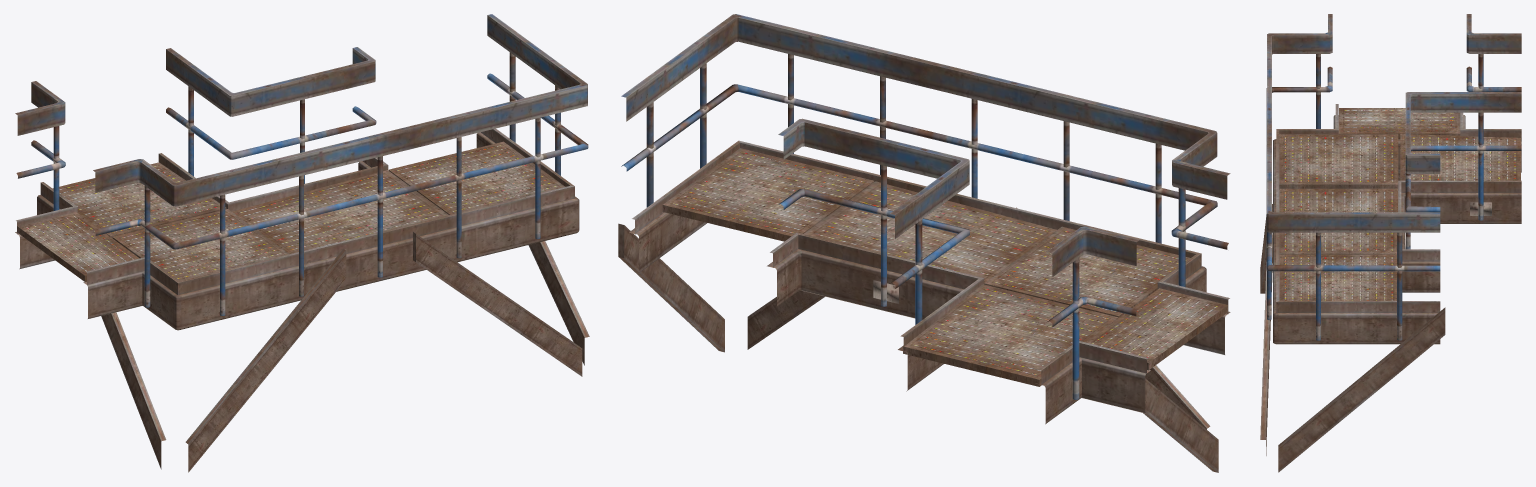
File: rocket_factory_stairs_door.glb
3 renders of one model, left to right at view 1: azimuth 30°, elevation 25°; view 2: azimuth 150°, elevation 25°; view 3: azimuth 270°, elevation 25°, orthographic. The views are drawn at different scales.
Parts seen in each view (by area): view 1: rocket_factory_stairs_door; view 2: rocket_factory_stairs_door; view 3: rocket_factory_stairs_door.
Boxes of the visible parts, left/top/right/bottom form: rocket_factory_stairs_door: left=15, top=14, right=589, bottom=472; rocket_factory_stairs_door: left=618, top=14, right=1230, bottom=472; rocket_factory_stairs_door: left=1260, top=14, right=1521, bottom=472.
Size of the model in its own units: 5.97 by 3.47 by 3.22.
Materials: 1 (1 with a texture image).
